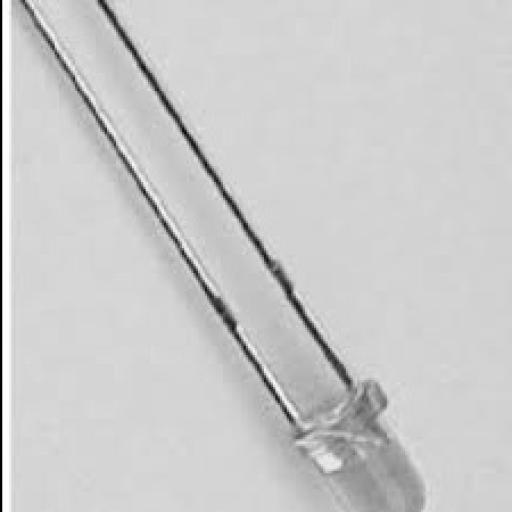LED: (99, 92, 512, 512)
